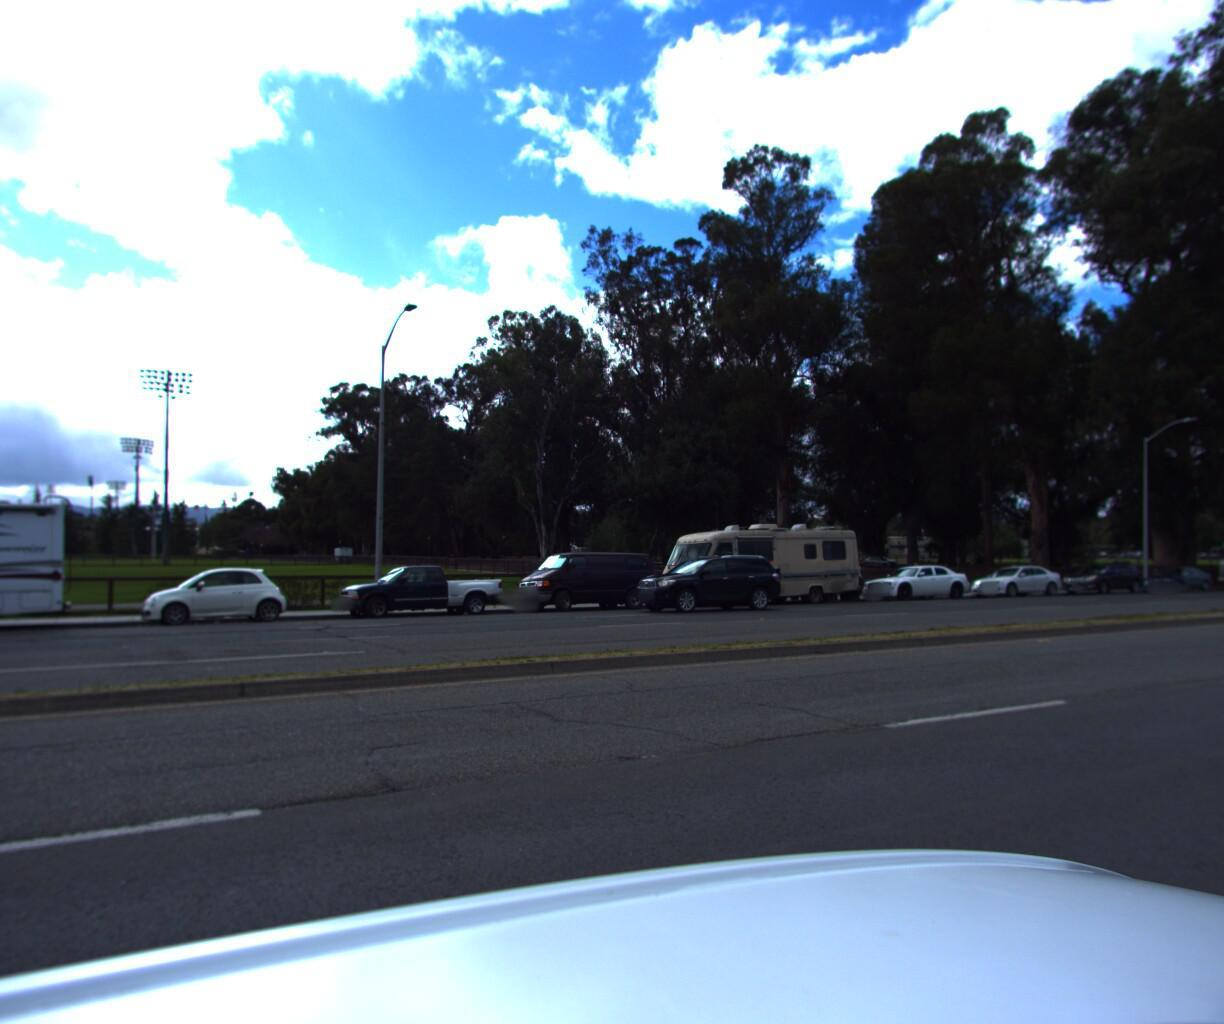car: (622, 554, 803, 619), (329, 566, 514, 628), (134, 568, 296, 638), (504, 551, 664, 620), (853, 563, 975, 604), (958, 563, 1067, 601), (1052, 559, 1145, 597), (1128, 563, 1214, 593)
other_vehicle: (644, 517, 889, 616), (0, 472, 77, 662), (1203, 534, 1224, 592)
